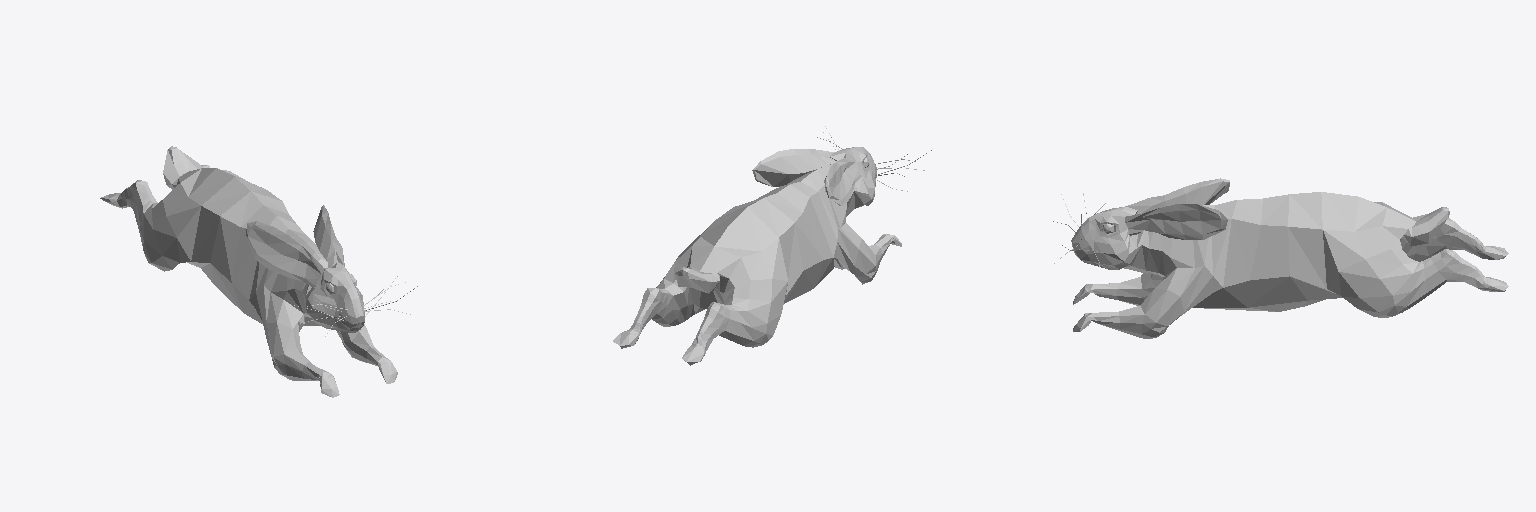
The model's file is rabbit_6.obj.
3 views of the same model, side by side, from view 1: azimuth 30°, elevation 25°; view 2: azimuth 150°, elevation 25°; view 3: azimuth 270°, elevation 25° (orthographic).
Visible parts, largest first — view 1: Rabbit_Cylinder; view 2: Rabbit_Cylinder; view 3: Rabbit_Cylinder.
Boxes of the visible parts, x1=… form: Rabbit_Cylinder: x1=100, y1=146, x2=417, y2=397; Rabbit_Cylinder: x1=613, y1=126, x2=931, y2=365; Rabbit_Cylinder: x1=1053, y1=178, x2=1508, y2=338.
Size of the model in its own units: 7.04 by 8.08 by 25.03.